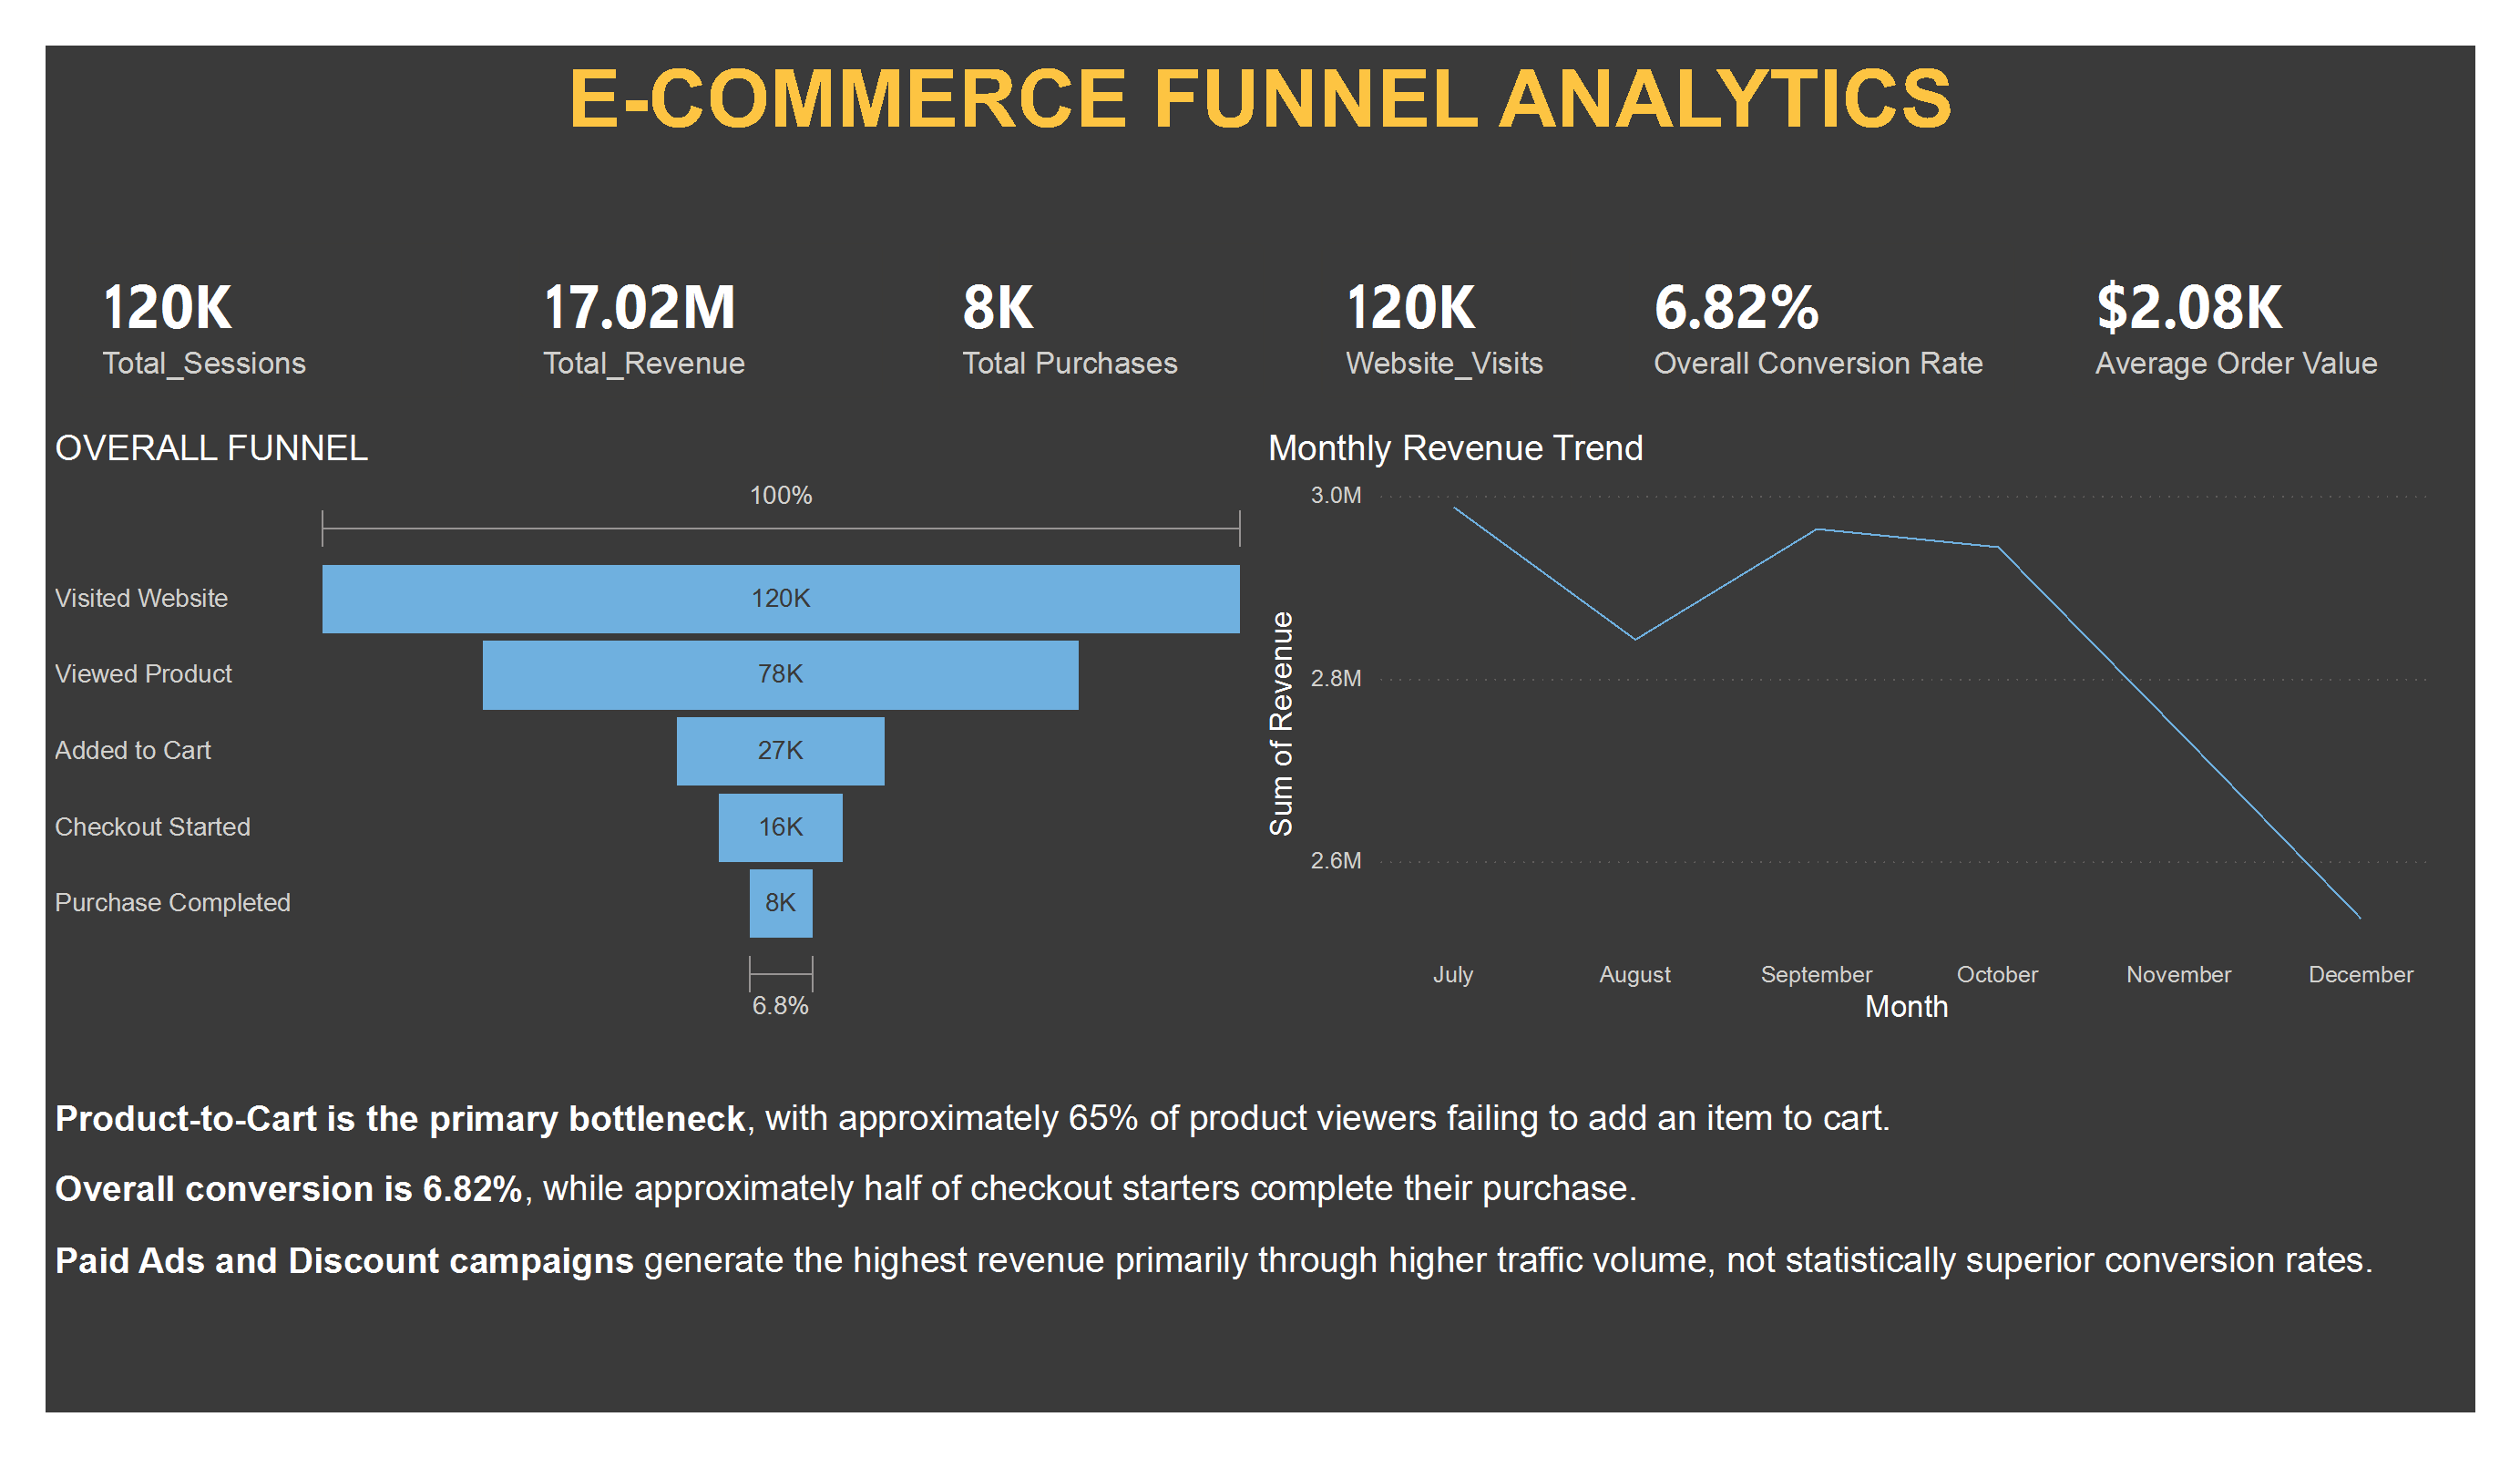

This screenshot's page, from the dashboard's own definition file:
{"tool":"powerbi","page":{"name":"Executive Overview","canvas":[1280,720],"ordinal":0},"visuals":[{"type":"cardVisual","fields":{"Data":["Sum(vw_overall_kpis.Total_Sessions)"]},"box":[0,86.7,235.9,115.1],"z":0},{"type":"cardVisual","fields":{"Data":["Sum(vw_overall_kpis.Total_Revenue)"]},"box":[231.6,86.7,225.9,115.1],"z":1000},{"type":"cardVisual","fields":{"Data":["Sum(vw_overall_kpis.Purchases)"]},"box":[453.3,86.7,206,115.1],"z":2000},{"type":"cardVisual","fields":{"Data":["Sum(vw_monthly_performance.Website_Visits)"]},"box":[655.1,86.7,166.3,115.1],"z":3000},{"type":"cardVisual","fields":{"Data":["vw_ecommerce_funnel_clean.Overall Conversion Rate"]},"box":[817.1,86.7,237.3,115.1],"z":4000},{"type":"cardVisual","fields":{"Data":["vw_ecommerce_funnel_clean.Average Order Value"]},"box":[1050.1,86.7,230.2,115.1],"z":5000},{"type":"funnel","title":"OVERALL FUNNEL","fields":{"Category":["vw_funnel_summary_advanced.Stage_Name"],"Y":["Sum(vw_funnel_summary_advanced.Users_Count)"]},"box":[0,201.8,639.4,318.3],"z":6000},{"type":"textbox","box":[247.2,0,785.8,75.3],"z":7000},{"type":"lineChart","title":"Monthly Revenue Trend","fields":{"Category":["vw_monthly_performance.Month.Variation.Date Hierarchy.Month"],"Y":["Sum(vw_monthly_performance.Revenue)"]},"box":[639.4,201.8,623.8,318.3],"z":8000},{"type":"textbox","box":[0,549.9,1170.9,36.9],"z":9000},{"type":"textbox","box":[0,586.9,1016,38.4],"z":10000},{"type":"textbox","box":[0,625.2,1254.7,35.5],"z":11000}]}

Visuals, with their boxes on the page's 1280x720 design canvas (x1, y1, x2, y2). These are canvas units, not pixel positions in the 2520x1458 screenshot, which may show the page scaled, cropped or inside an application window:
cardVisual - Sum(vw_overall_kpis.Total_Sessions): [0, 87, 236, 202]
cardVisual - Sum(vw_overall_kpis.Total_Revenue): [232, 87, 458, 202]
cardVisual - Sum(vw_overall_kpis.Purchases): [453, 87, 659, 202]
cardVisual - Sum(vw_monthly_performance.Website_Visits): [655, 87, 821, 202]
cardVisual - vw_ecommerce_funnel_clean.Overall Conversion Rate: [817, 87, 1054, 202]
cardVisual - vw_ecommerce_funnel_clean.Average Order Value: [1050, 87, 1280, 202]
"OVERALL FUNNEL" funnel: [0, 202, 639, 520]
textbox: [247, 0, 1033, 75]
"Monthly Revenue Trend" lineChart: [639, 202, 1263, 520]
textbox: [0, 550, 1171, 587]
textbox: [0, 587, 1016, 625]
textbox: [0, 625, 1255, 661]
